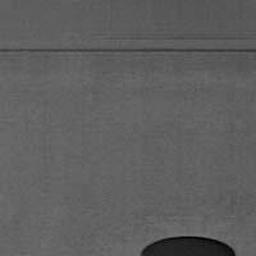Punching: (141, 237, 237, 256)
